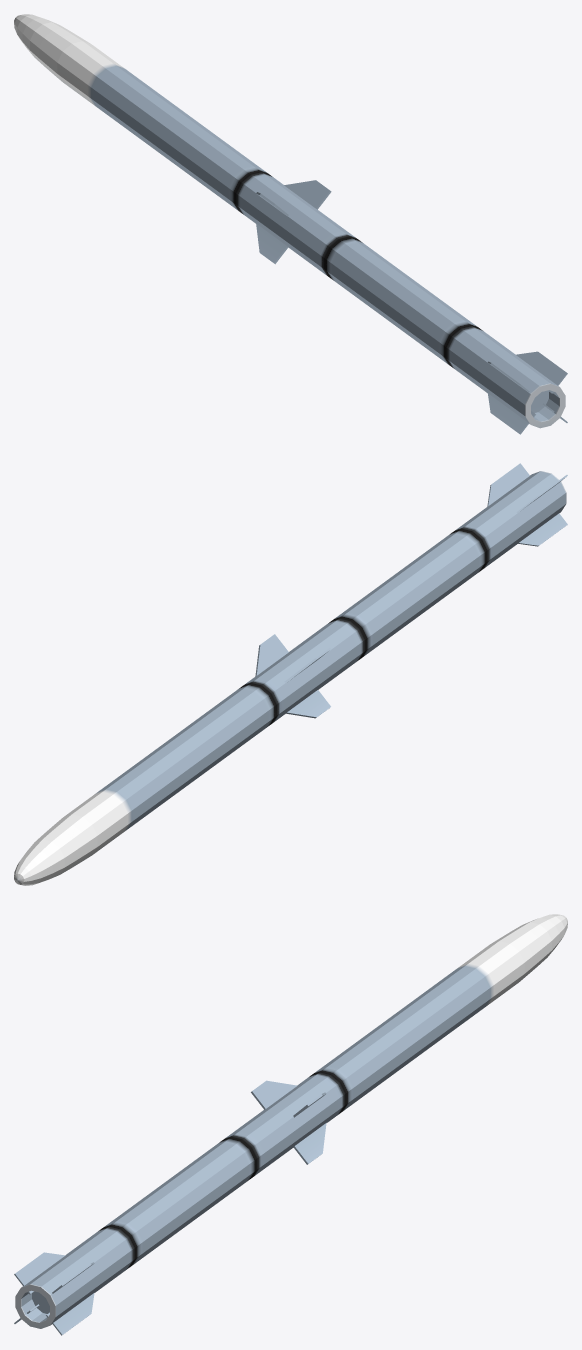
File: missile.gltf
3 views of the same model, one above another, from view 1: azimuth 30°, elevation 25°; view 2: azimuth 150°, elevation 25°; view 3: azimuth 330°, elevation 25° (orthographic).
Size of the model in its own units: 0.1991 by 0.1992 by 3.16.
Materials: 1 (1 with a texture image).
